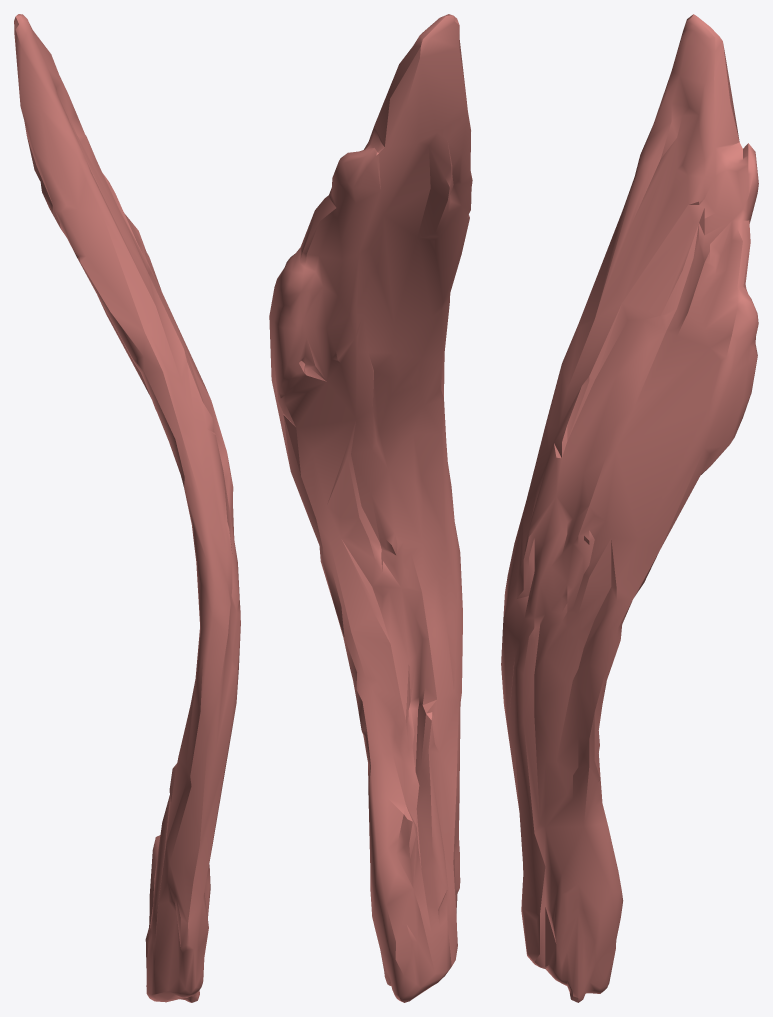
Rendered from fma46804.glb.
The picture shows the model from 3 angles, left to right: view 1: azimuth 30°, elevation 25°; view 2: azimuth 150°, elevation 25°; view 3: azimuth 270°, elevation 25°; orthographic projection. The views are drawn at different scales.
Visible parts, largest first — view 1: FMA46804; view 2: FMA46804; view 3: FMA46804.
Part boxes in pixels (x1=…): FMA46804: x1=14, y1=14, x2=240, y2=1002; FMA46804: x1=269, y1=14, x2=472, y2=1002; FMA46804: x1=501, y1=14, x2=758, y2=1002.
Size of the model in its own units: 0.00521 by 0.0282 by 0.00705.
